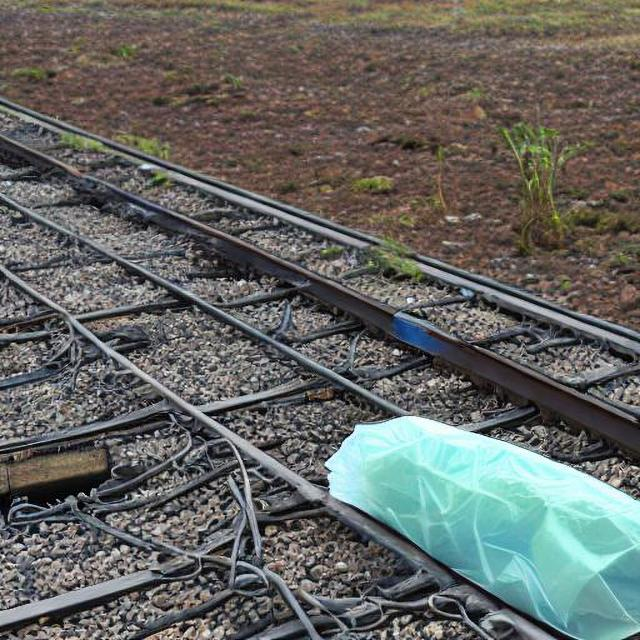plastic bag: (322, 402, 630, 623)
